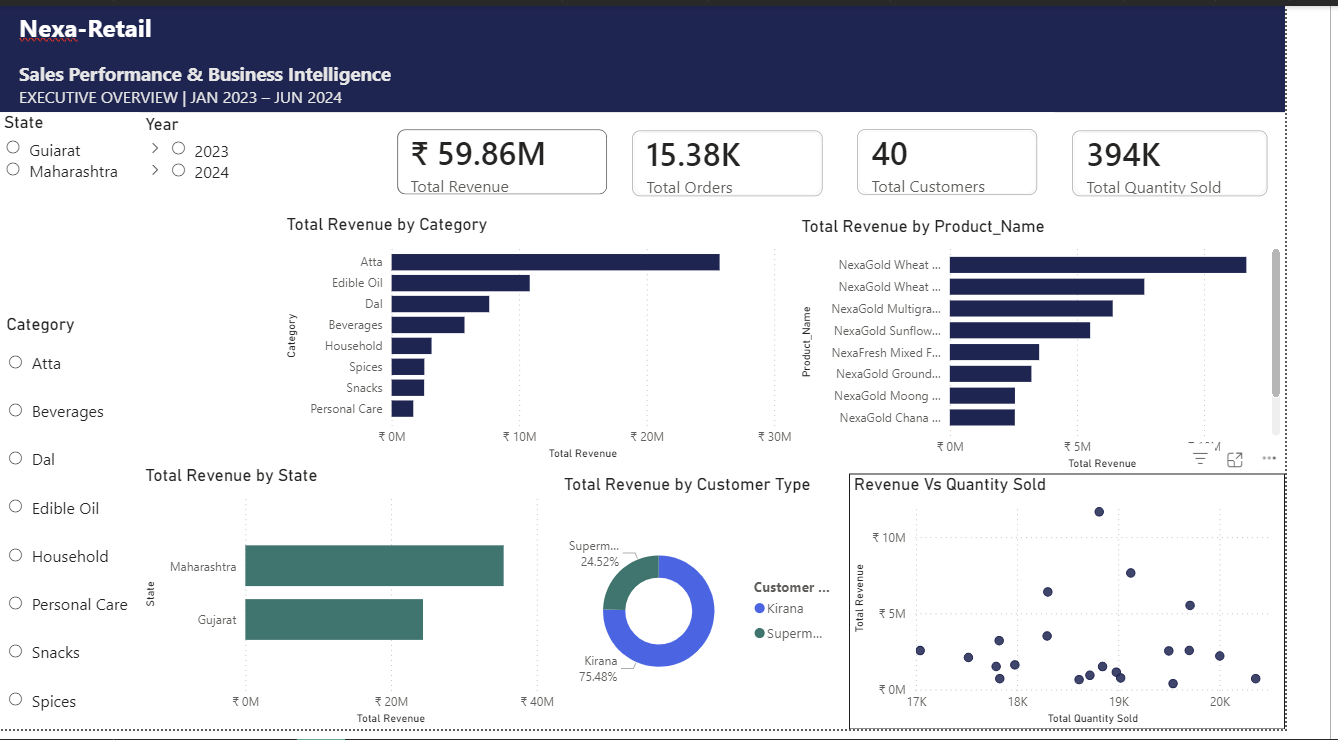

What the dashboard file says about the page in this screenshot:
{"tool":"powerbi","page":{"name":"Executive Overview","canvas":[1280,720],"ordinal":0},"visuals":[{"type":"cardVisual","fields":{"Data":["Measures (2).Total Revenue"]},"box":[379.4,105.7,243.8,99.5],"z":0},{"type":"textbox","box":[0,0,1280,105.7],"z":1000},{"type":"cardVisual","fields":{"Data":["Measures (2).Total Quantity Sold"]},"box":[1051.1,107,228.9,99.5],"z":2000},{"type":"cardVisual","fields":{"Data":["Measures (2).Total Orders"]},"box":[613.3,107,223.9,99.5],"z":3000},{"type":"cardVisual","fields":{"Data":["Measures (2).Total Customers"]},"box":[837.2,105.7,214,99.5],"z":4000},{"type":"clusteredBarChart","fields":{"Category":["Consolidated_Data.Category"],"Y":["Measures (2).Total Revenue"]},"box":[281.1,206.5,512.5,250],"z":5000},{"type":"donutChart","title":"Total Revenue by Customer Type","fields":{"Category":["Consolidated_Data.Customer_Type"],"Y":["Measures (2).Total Revenue"]},"box":[557.3,465.2,279.9,255],"z":7000},{"type":"clusteredBarChart","fields":{"Category":["Consolidated_Data.State"],"Y":["Measures (2).Total Revenue"]},"box":[140.6,456.5,416.7,263.7],"z":7500},{"type":"clusteredBarChart","fields":{"Category":["Consolidated_Data.Product_Name"],"Y":["Measures (2).Total Revenue"]},"box":[793.6,209,486.4,257.5],"z":8000},{"type":"scatterChart","title":"Revenue Vs Quantity Sold","fields":{"X":["Measures (2).Total Quantity Sold"],"Y":["Measures (2).Total Revenue"],"Category":["Consolidated_Data.Product_Name"]},"box":[845.9,465.2,434.1,255],"z":9000},{"type":"listSlicer","fields":{"Values":["Consolidated_Data.Order_Date.Variation.Date Hierarchy.Year","Consolidated_Data.Order_Date.Variation.Date Hierarchy.Quarter","Consolidated_Data.Order_Date.Variation.Date Hierarchy.Month","Consolidated_Data.Order_Date.Variation.Date Hierarchy.Day"]},"box":[140.6,107,140.6,199],"z":10000},{"type":"listSlicer","fields":{"Values":["Consolidated_Data.State"]},"box":[0,105.7,140.6,200.3],"z":11000},{"type":"listSlicer","fields":{"Values":["Consolidated_Data.Category"]},"box":[2.5,306,138.1,414.2],"z":12000}]}

Visuals, with their boxes in screenshot pixels (x1, y1, x2, y2), scaled from the page's 1280x720 canvas onto the 1338x740 screenshot:
cardVisual - Measures (2).Total Revenue: <region>397, 109, 651, 211</region>
textbox: <region>0, 0, 1337, 109</region>
cardVisual - Measures (2).Total Quantity Sold: <region>1099, 110, 1337, 212</region>
cardVisual - Measures (2).Total Orders: <region>641, 110, 875, 212</region>
cardVisual - Measures (2).Total Customers: <region>875, 109, 1099, 211</region>
clusteredBarChart - Consolidated_Data.Category x Measures (2).Total Revenue: <region>294, 212, 830, 469</region>
"Total Revenue by Customer Type" donutChart: <region>583, 478, 875, 739</region>
clusteredBarChart - Consolidated_Data.State x Measures (2).Total Revenue: <region>147, 469, 583, 739</region>
clusteredBarChart - Consolidated_Data.Product_Name x Measures (2).Total Revenue: <region>830, 215, 1337, 479</region>
"Revenue Vs Quantity Sold" scatterChart: <region>884, 478, 1337, 739</region>
listSlicer - Consolidated_Data.Order_Date.Variation.Date Hierarchy.Year x Consolidated_Data.Order_Date.Variation.Date Hierarchy.Quarter: <region>147, 110, 294, 314</region>
listSlicer - Consolidated_Data.State: <region>0, 109, 147, 314</region>
listSlicer - Consolidated_Data.Category: <region>3, 314, 147, 739</region>
